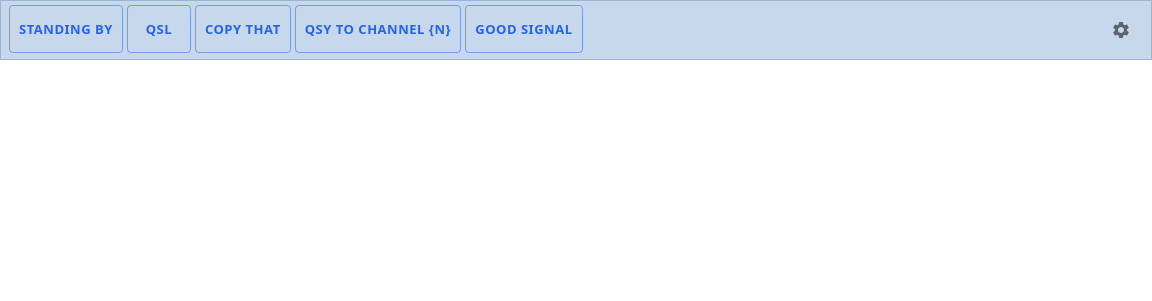
it: QuickMessages › edit mode › ADD button enables when draft has non-whitespace content
Click the button named "edit quick messages" at (1121, 30), box [1099, 8, 1143, 52]
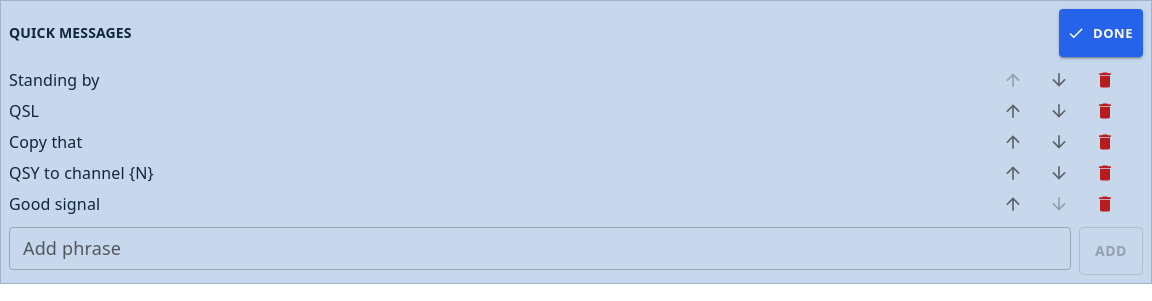
Type "New phrase" into the field labelled "Add phrase" at (540, 249), box [9, 227, 1071, 270]
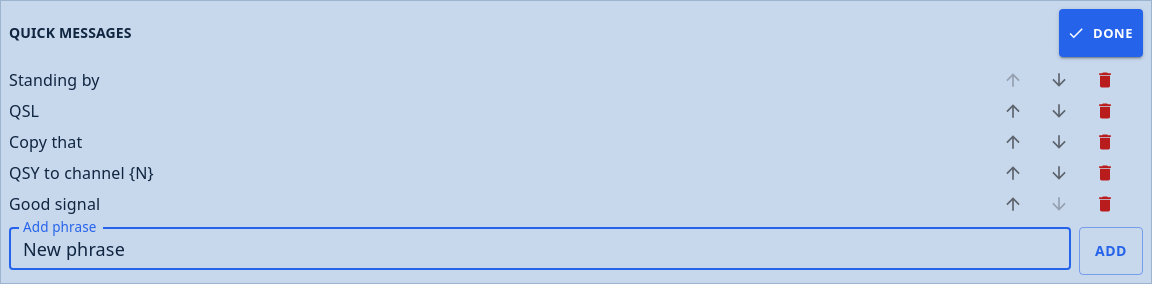
Result: the button "ADD" is enabled at [1079, 227, 1143, 275]
